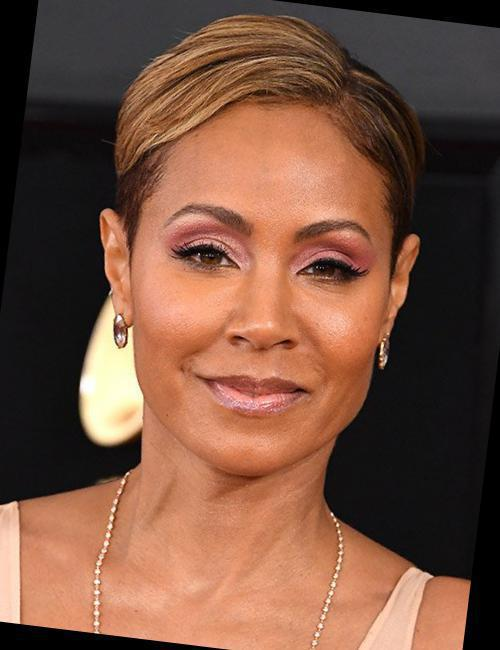Sober: (146, 96, 375, 464)
